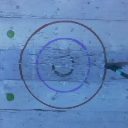Axe Tip: (110, 63, 123, 68)
